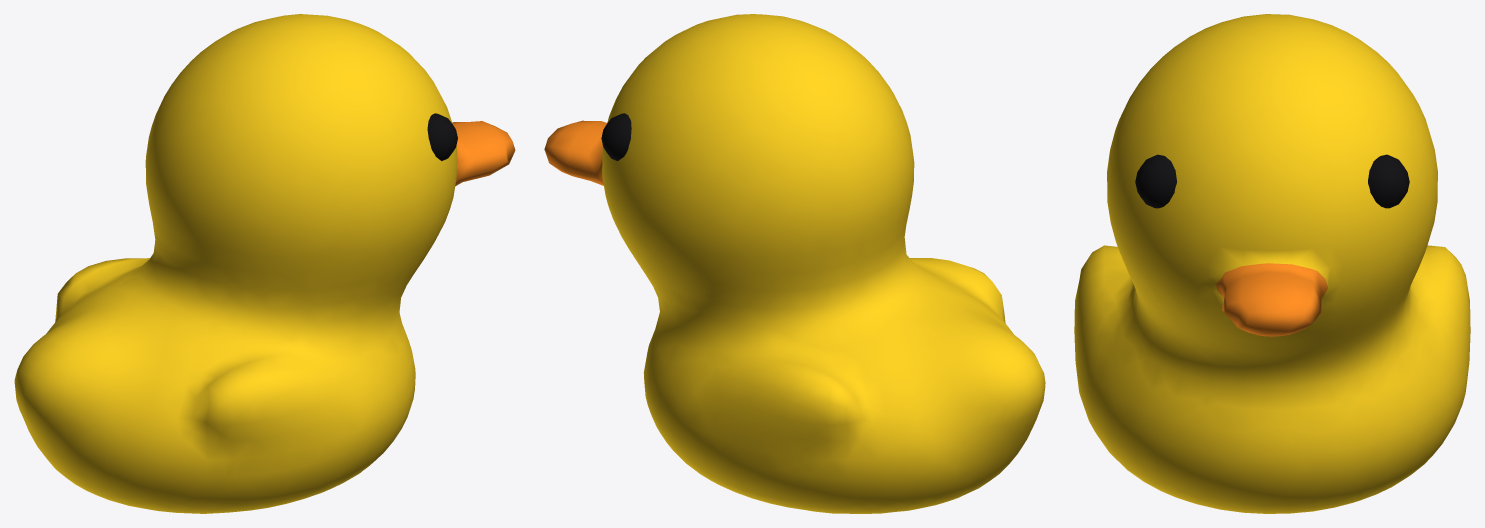
Rendered from duck_baby.glb.
3 renders of one model, left to right at view 1: azimuth 30°, elevation 25°; view 2: azimuth 150°, elevation 25°; view 3: azimuth 270°, elevation 25°, orthographic. The views are drawn at different scales.
Visible parts, largest first — view 1: body, eye; view 2: body, eye; view 3: body, eye.
Boxes of the visible parts, left/top/right/bottom form: body: left=14, top=14, right=515, bottom=513; eye: left=427, top=113, right=457, bottom=160; body: left=544, top=14, right=1045, bottom=513; eye: left=601, top=113, right=631, bottom=160; body: left=1074, top=14, right=1470, bottom=513; eye: left=1135, top=154, right=1409, bottom=208.
Size of the model in its own units: 1.65 by 1.39 by 1.05.
